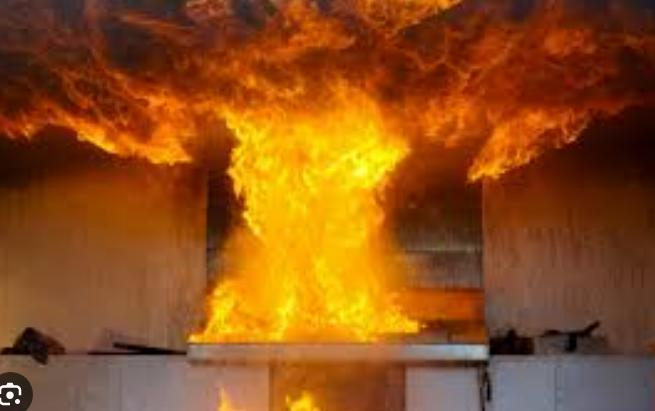fire: (16, 9, 642, 346)
smoke: (9, 0, 644, 117)
